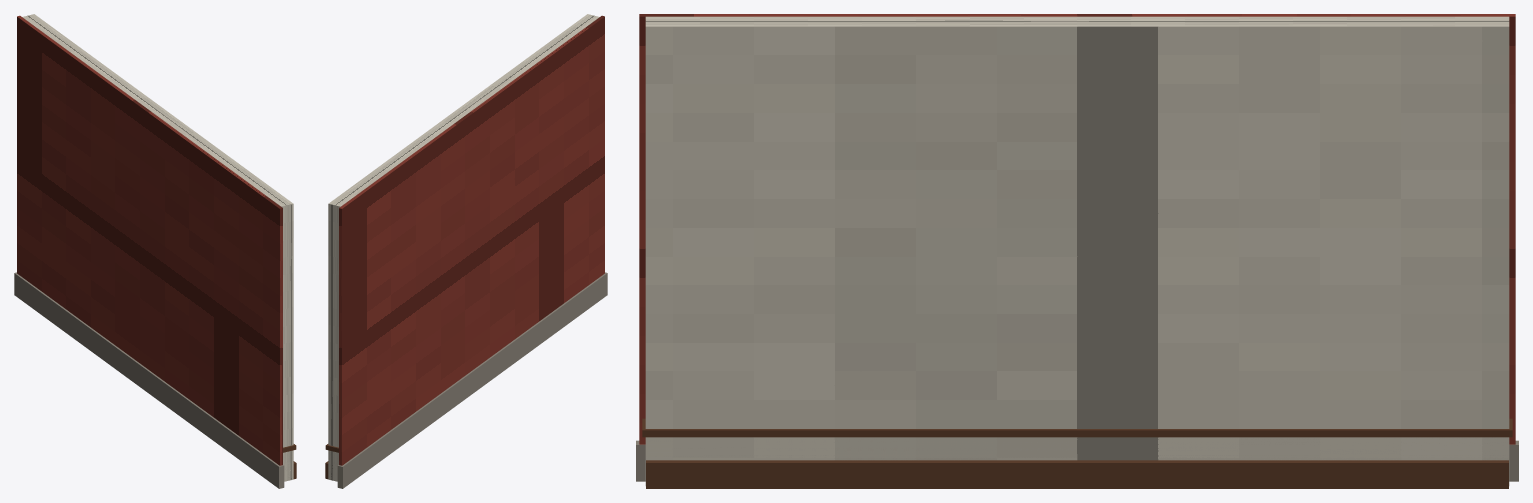
The model's file is left.glb.
3 renders of one model, left to right at view 1: azimuth 30°, elevation 25°; view 2: azimuth 150°, elevation 25°; view 3: azimuth 270°, elevation 25°, orthographic. The views are drawn at different scales.
Visible parts, largest first — view 1: Box3, Box4, Box1; view 2: Box3, Box4, Box1; view 3: Box1, Box2, Box3, Box6, Box5.
Boxes of the visible parts, x1=… form: Box3: x1=17, y1=15, x2=282, y2=465; Box4: x1=14, y1=272, x2=284, y2=488; Box1: x1=22, y1=14, x2=293, y2=481; Box3: x1=339, y1=15, x2=604, y2=465; Box4: x1=337, y1=272, x2=607, y2=488; Box1: x1=328, y1=14, x2=599, y2=481; Box1: x1=645, y1=16, x2=1509, y2=485; Box2: x1=646, y1=460, x2=1508, y2=488; Box3: x1=639, y1=14, x2=1515, y2=444; Box6: x1=642, y1=418, x2=1512, y2=437; Box5: x1=646, y1=437, x2=1509, y2=482.
Bounding box in the file's own units: 0.25 × 3.24 × 5.57.
4 materials, 2 textured.
